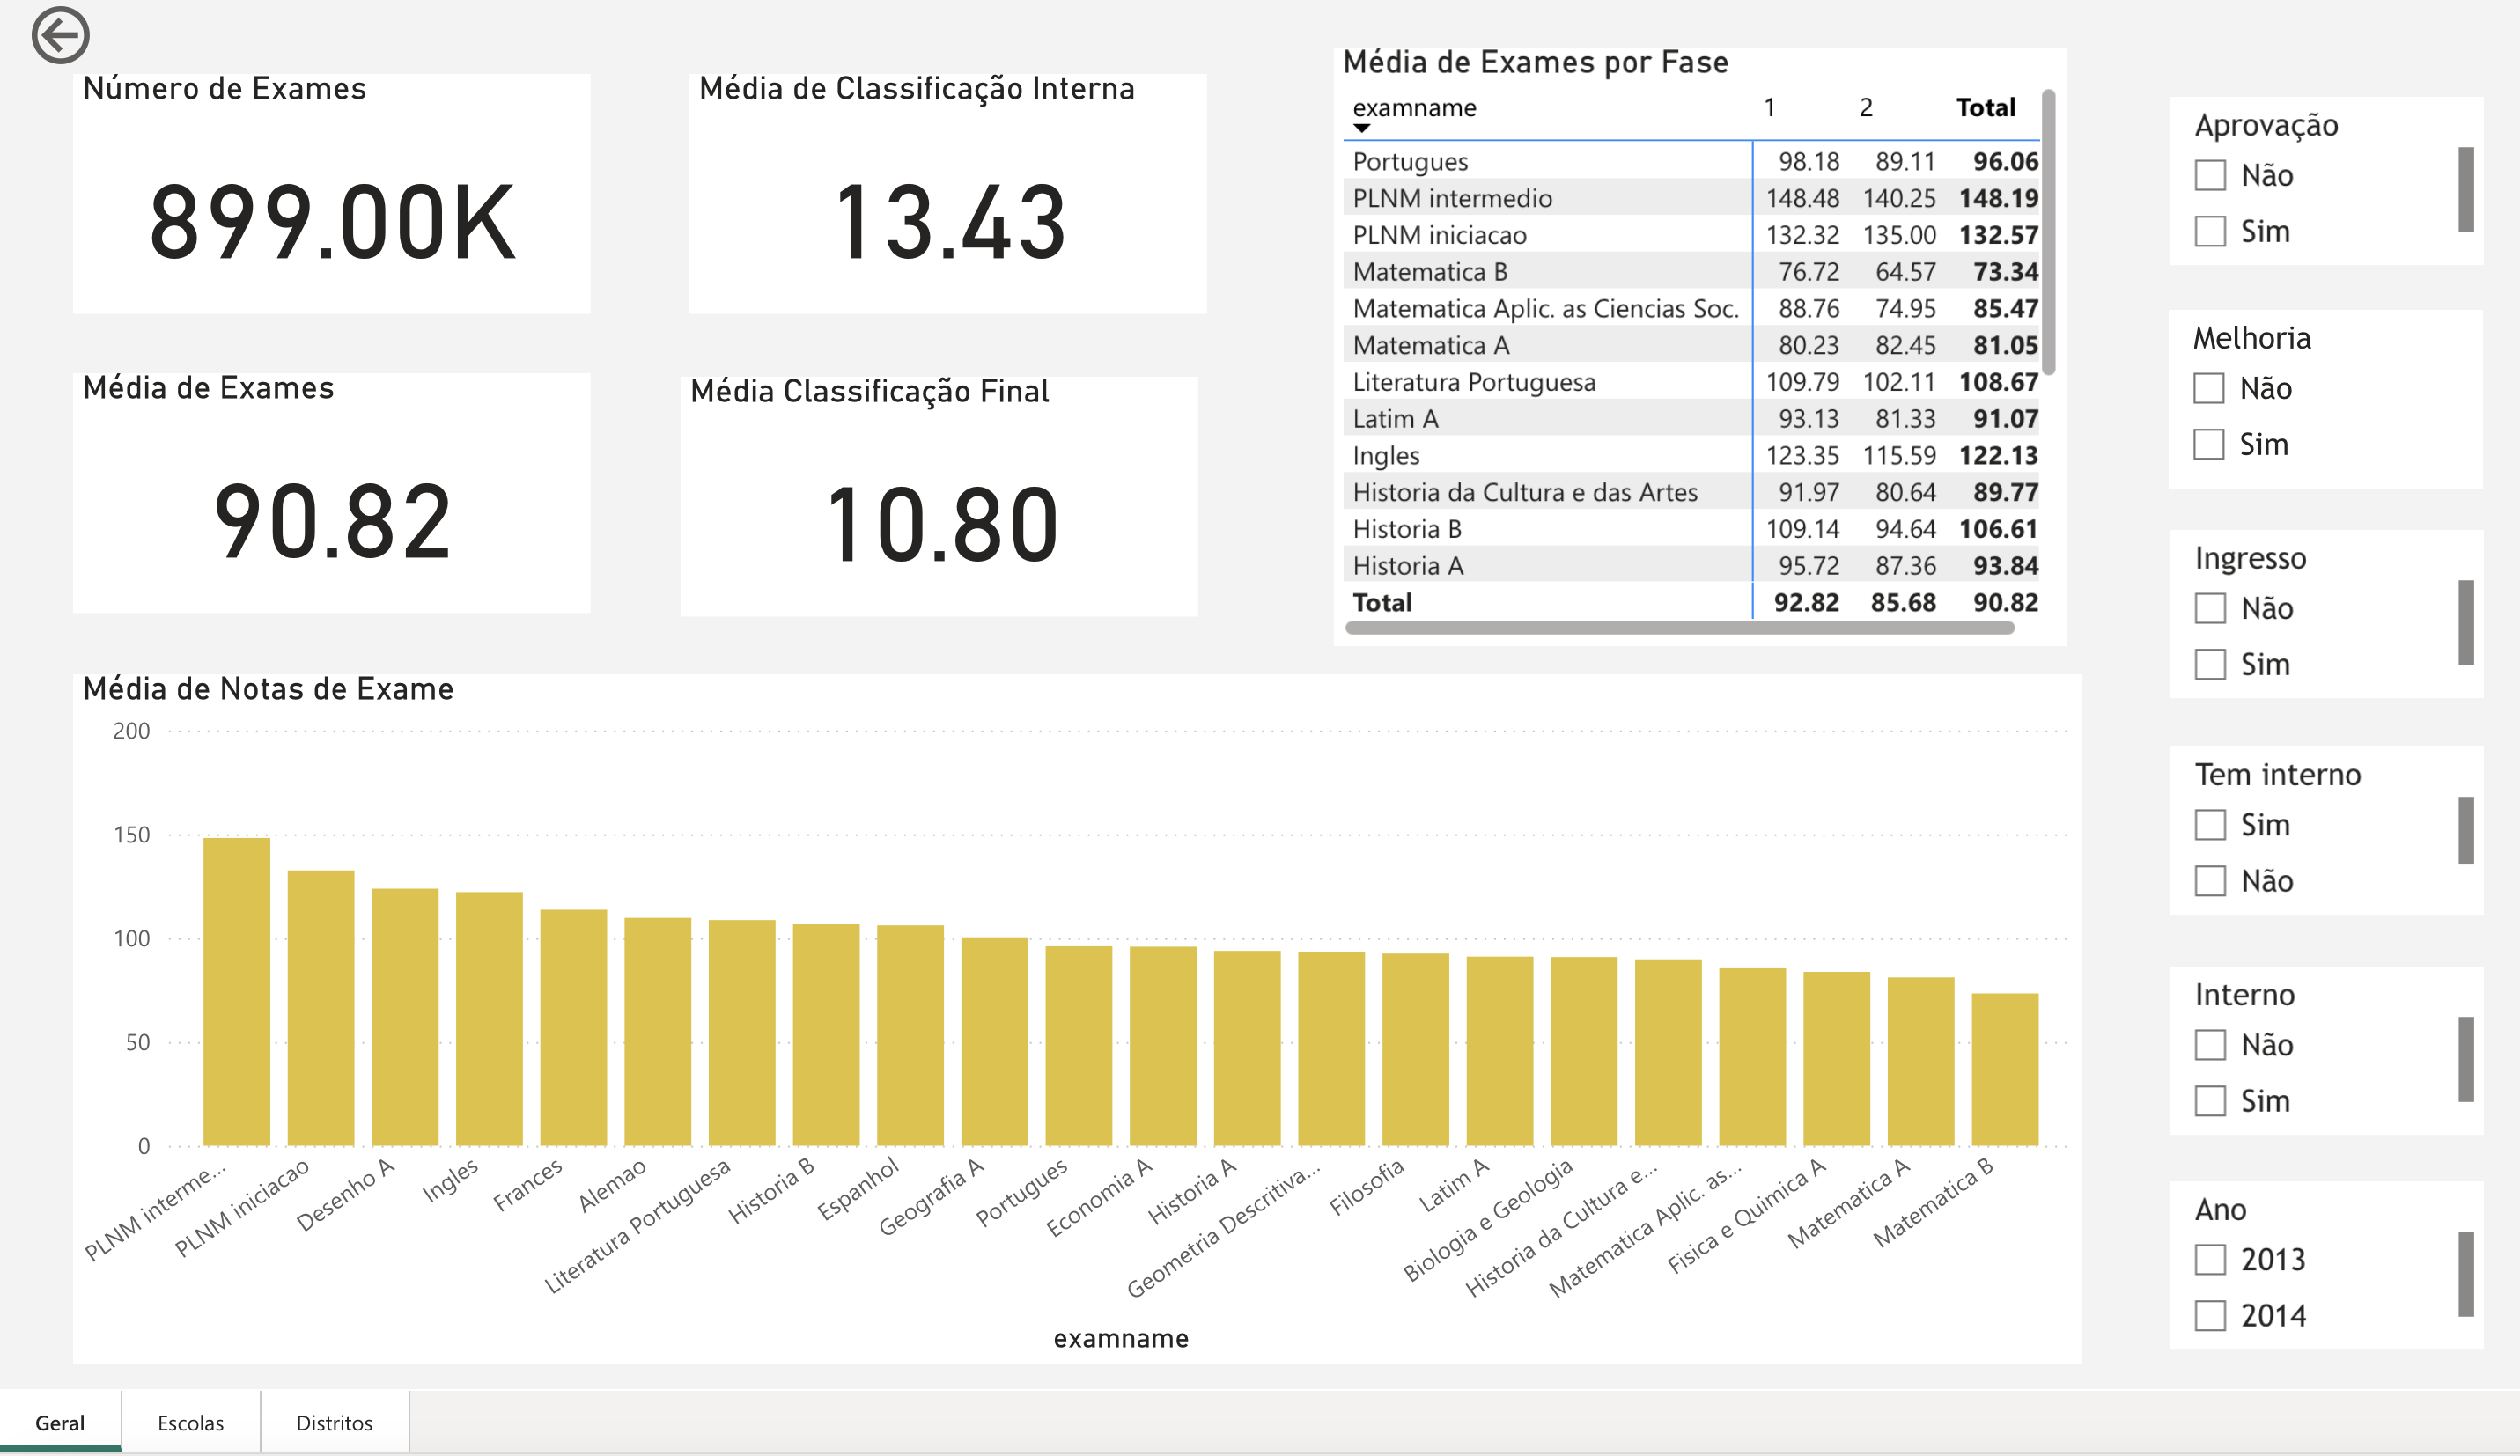

What the dashboard file says about the page in this screenshot:
{"tool":"powerbi","page":{"name":"Geral","canvas":[1280,720],"ordinal":0},"visuals":[{"type":"actionButton","box":[0,0,100,40],"z":0},{"type":"columnChart","title":"Média de Notas de Exame","fields":{"Y":["Avg(grades.grade)"],"Category":["dim_exam.examname"]},"box":[26.1,350.8,1038.8,356.2],"z":0,"group":"g1"},{"type":"pivotTable","title":"Média de Exames por Fase","fields":{"Rows":["dim_exam.examname"],"Values":["Avg(grades.grade)"],"Columns":["dim_phase.phase"]},"box":[677.5,26.7,378.9,309.4],"z":1000,"group":"g1"},{"type":"slicer","fields":{"Values":["grades.foraproval"]},"box":[1110.1,52.1,162.2,86.9],"z":1000},{"type":"slicer","fields":{"Values":["grades.forimprove"]},"box":[1109.5,162.3,162.5,92.5],"z":2000},{"type":"slicer","fields":{"Values":["grades.hasaplication"]},"box":[1110.1,275.8,162.2,86.9],"z":3000},{"type":"qnaVisual","box":[220.2,499.4,150,150],"z":4000},{"type":"group","id":"g1","title":"Grupo 1","box":[26.1,26.7,1246.2,680.3],"z":5000},{"type":"slicer","fields":{"Values":["grades.hasintern"]},"box":[1110.1,388.2,162.2,86.9],"z":6000,"group":"g1"},{"type":"slicer","fields":{"Values":["grades.intern"]},"box":[1110.1,501.8,162.2,86.9],"z":7000,"group":"g1"},{"type":"slicer","fields":{"Values":["dim_year.year"]},"box":[1110.1,613,162.2,86.9],"z":8000,"group":"g1"},{"type":"card","title":"Número de Exames","fields":{"Values":["CountNonNull(grades.grade)"]},"box":[26.3,40.6,267.7,124],"z":9000,"group":"g1"},{"type":"card","title":"Média de Classificação Interna","fields":{"Values":["Avg(grades.cif)"]},"box":[344.9,40.6,267.7,124],"z":10000,"group":"g1"},{"type":"card","title":"Média Classificação Final","fields":{"Values":["Avg(grades.cfd)"]},"box":[340.1,197,267.7,124],"z":11000,"group":"g1"},{"type":"card","title":"Média de Exames","fields":{"Values":["Avg(grades.grade)"]},"box":[26.3,194.7,267.7,124],"z":12000,"group":"g1"}]}

Visuals, with their boxes in screenshot pixels (x1, y1, x2, y2), scaled from the page's 1280x720 canvas onto the 2520x1456 screenshot:
actionButton: (left=0, top=0, right=197, bottom=81)
"Média de Notas de Exame" columnChart: (left=51, top=710, right=2096, bottom=1430)
"Média de Exames por Fase" pivotTable: (left=1334, top=54, right=2080, bottom=680)
slicer - grades.foraproval: (left=2185, top=106, right=2505, bottom=281)
slicer - grades.forimprove: (left=2185, top=328, right=2504, bottom=515)
slicer - grades.hasaplication: (left=2185, top=558, right=2505, bottom=733)
qnaVisual: (left=433, top=1010, right=729, bottom=1313)
"Grupo 1" group: (left=51, top=54, right=2505, bottom=1430)
slicer - grades.hasintern: (left=2185, top=785, right=2505, bottom=960)
slicer - grades.intern: (left=2185, top=1015, right=2505, bottom=1190)
slicer - dim_year.year: (left=2185, top=1239, right=2505, bottom=1416)
"Número de Exames" card: (left=52, top=82, right=578, bottom=333)
"Média de Classificação Interna" card: (left=679, top=82, right=1206, bottom=333)
"Média Classificação Final" card: (left=669, top=399, right=1197, bottom=649)
"Média de Exames" card: (left=52, top=393, right=578, bottom=644)
